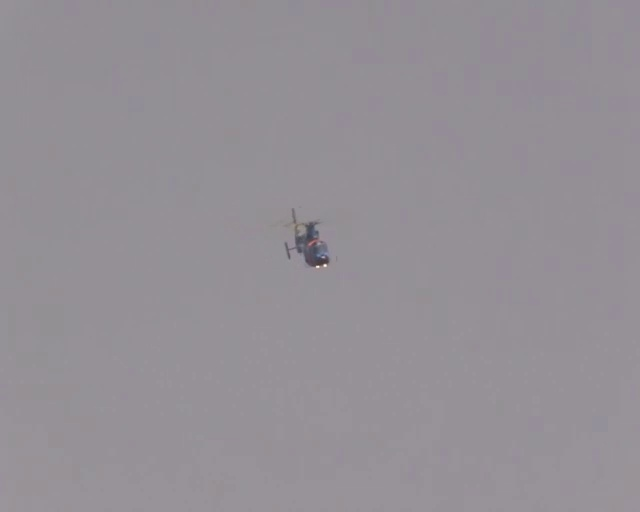HELICOPTER: (278, 206, 331, 269)
